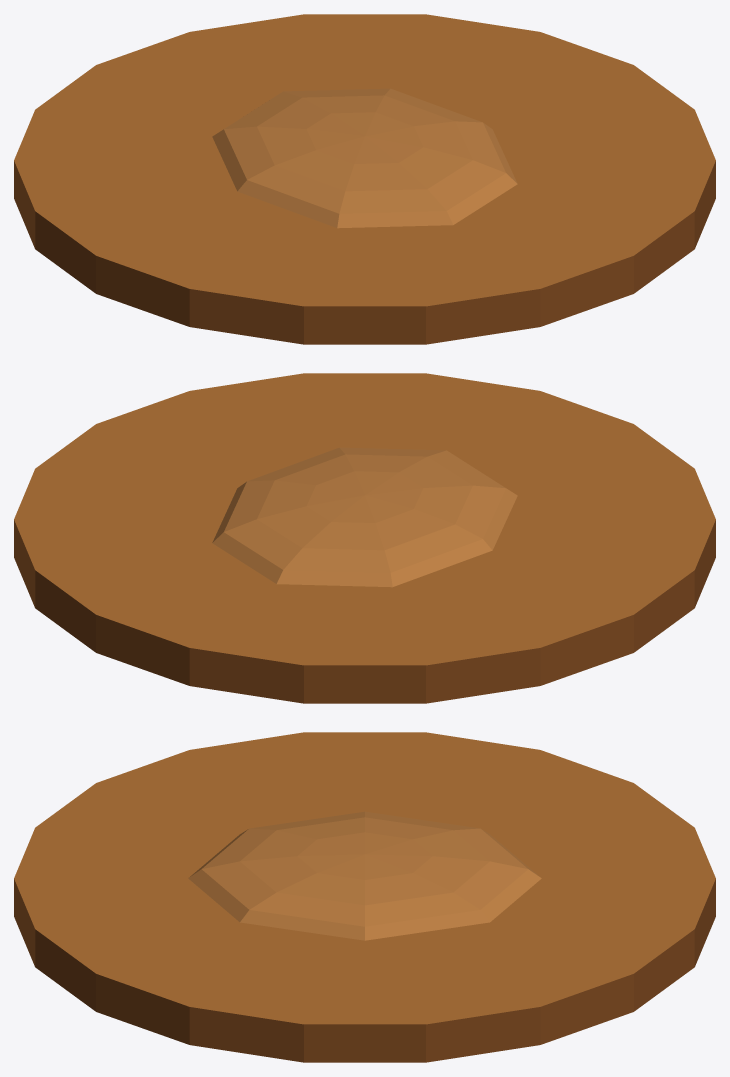
The model's file is curios-coin.glb.
3 views of the same model, one above another, from view 1: azimuth 30°, elevation 25°; view 2: azimuth 150°, elevation 25°; view 3: azimuth 270°, elevation 25° (orthographic).
Size of the model in its own units: 1.97 by 0.1956 by 2.
